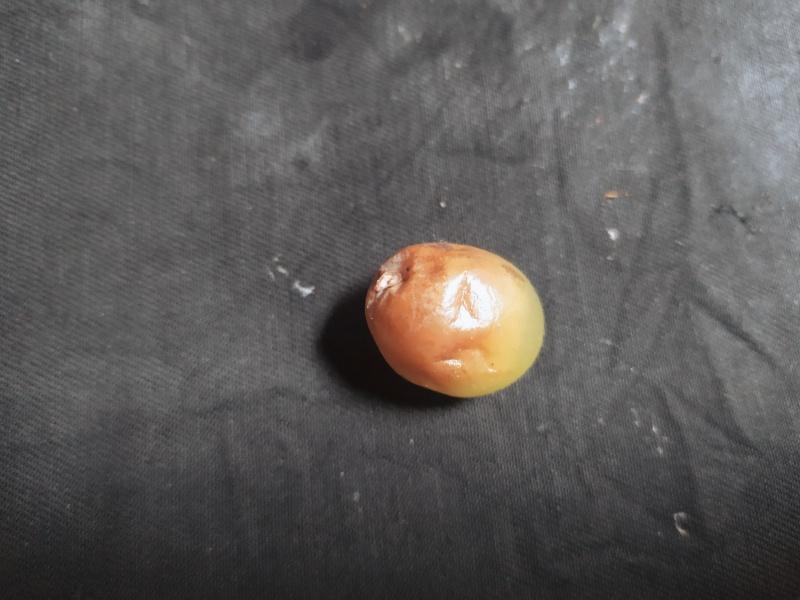Grape Rotten: (364, 241, 545, 398)
